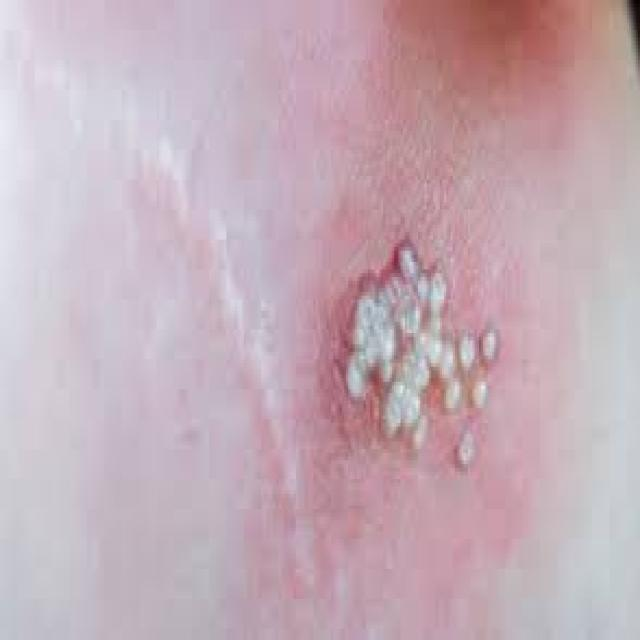Shingles: (338, 238, 500, 476)
